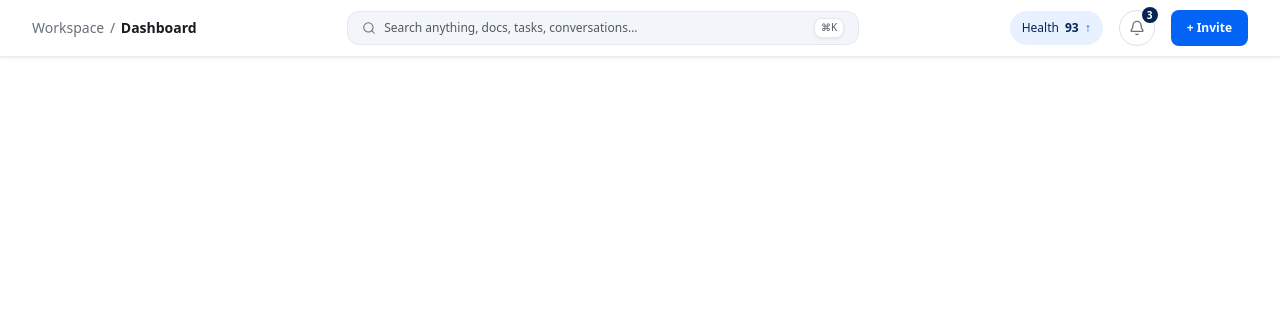
it: DashboardNavbar (top bar, PRD 2.1) › bell shows the unread count; the dropdown deep-links a notification and marks it read
Expected: the text "3" is shown, 1142,7 -> 1158,23
Click the button named "Toggle notifications".
click(1137, 28)  # box 1119,10 -> 1155,46
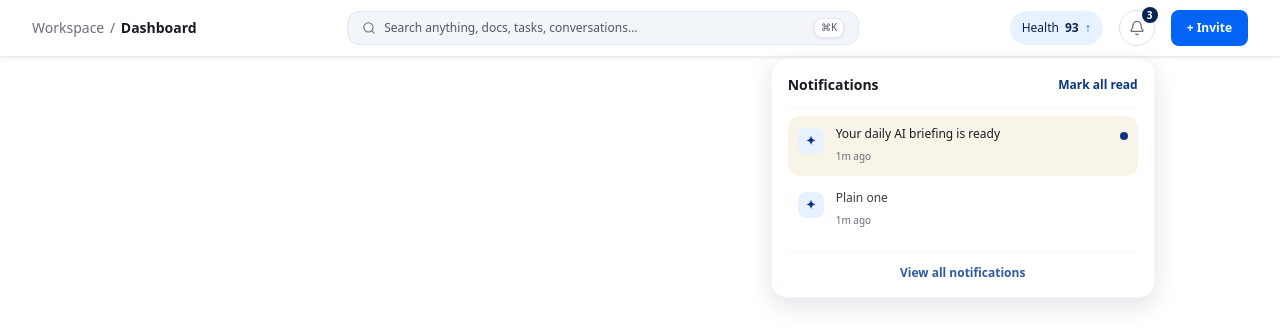
Click the link "✦ Your daily AI briefing is ready 1m ago".
click(918, 134)  # box 788,116 -> 1138,176
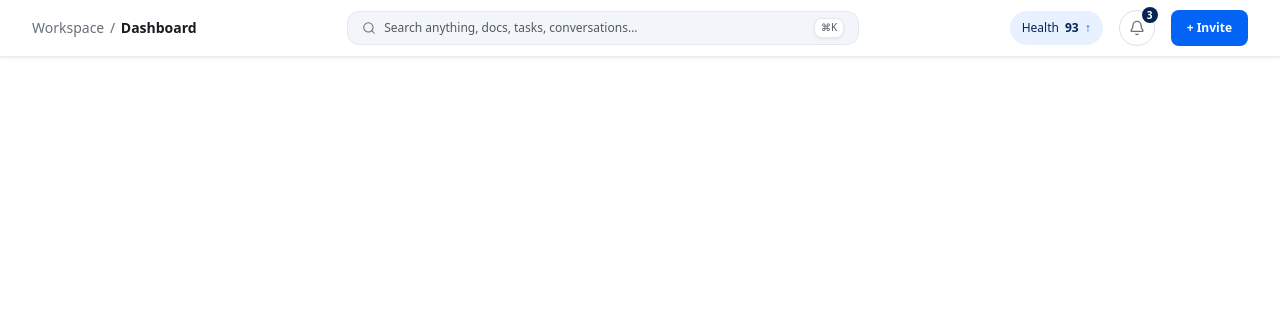
Expected: the button "Plain one" is gone
